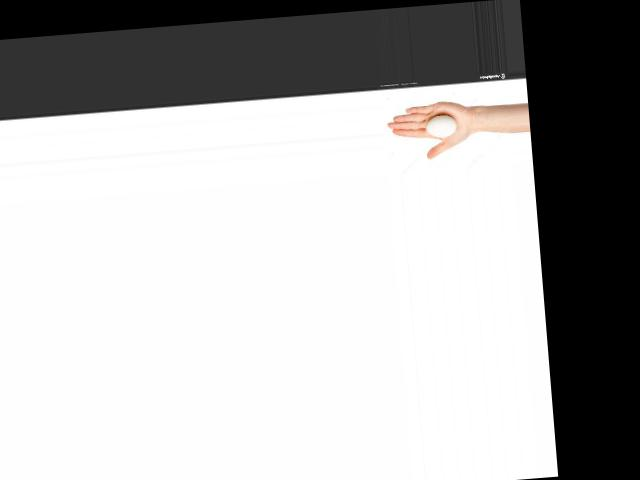egg: (425, 114, 456, 137)
